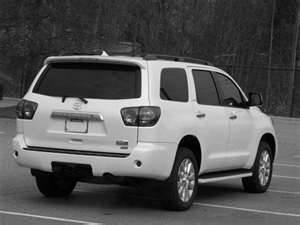car: (10, 52, 280, 215)
